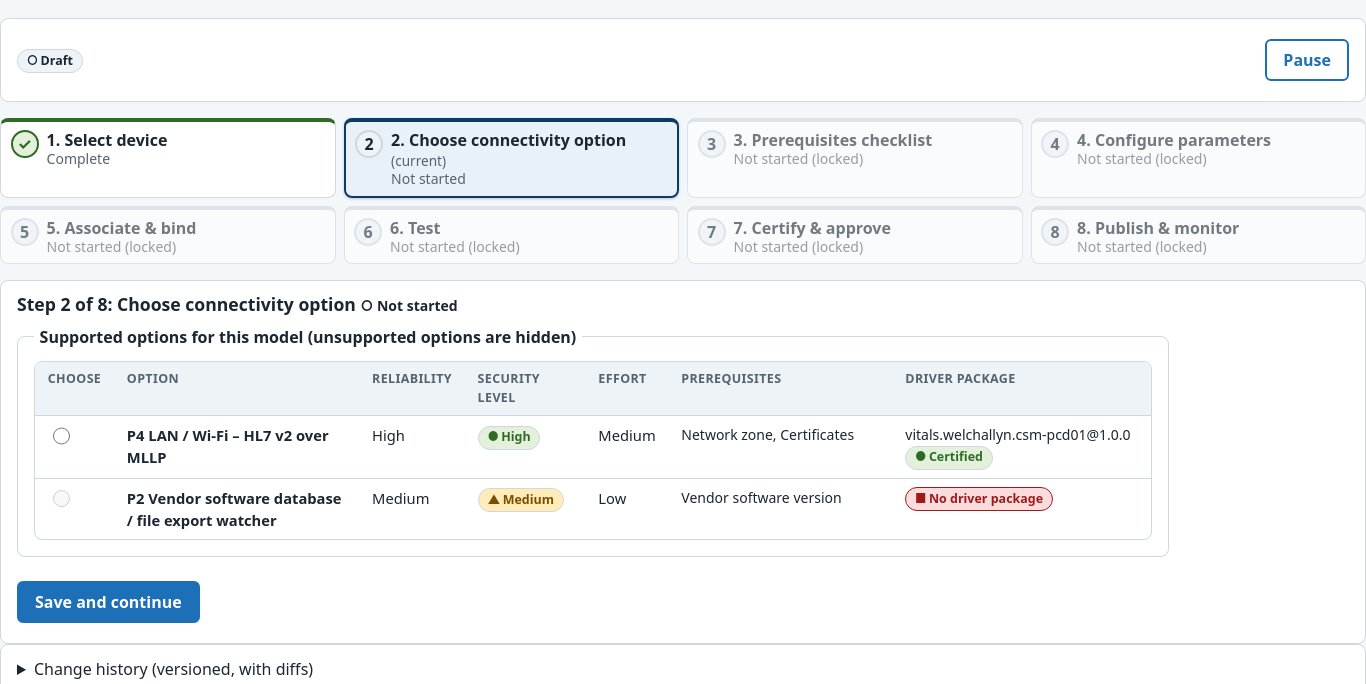
it: provisioning wizard › step 2 compares the supported options only, needs a choice and a driver
The image size is (1366, 684).
Check: the number of radio buttons is 2, box [53,427,70,445]; [53,490,70,507]
Check: the radio button named "P2" is disabled, box [53,490,70,507]
Click the button "Save and continue" at {"x": 108, "y": 602}, box [17,581,200,623]
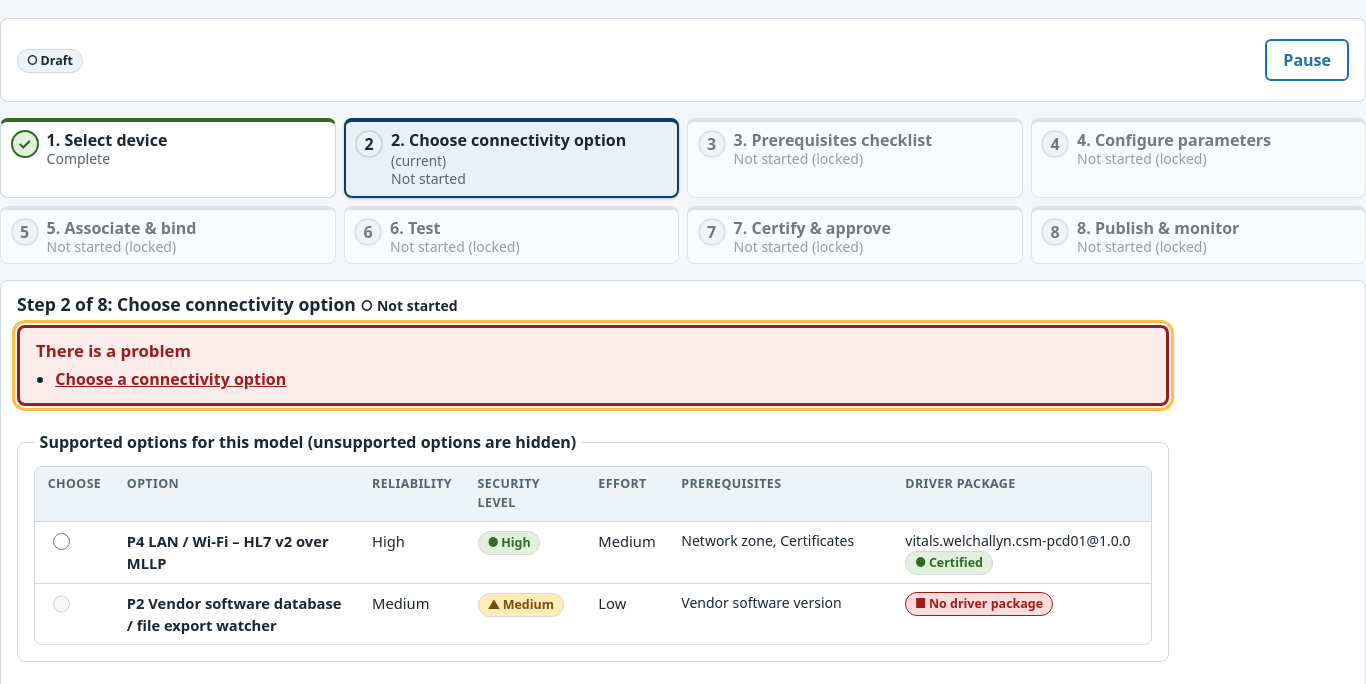
Check: the link "Choose a connectivity option" is shown, box [55,368,286,390]
Click the radio button named "P4" at {"x": 62, "y": 542}, box [53,533,70,550]
(page scrolled)
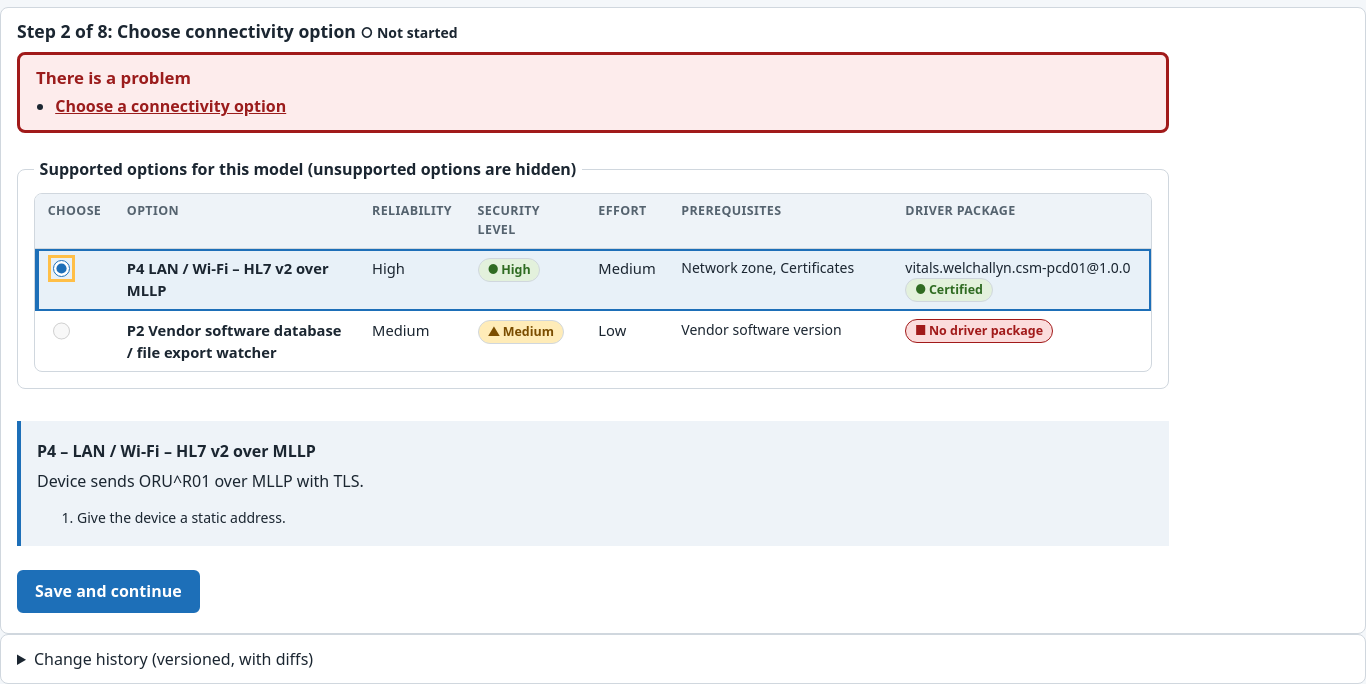
Check: the text "Device sends ORU^R01 over MLLP with TLS." is shown, box [37,470,364,492]
Click the button "Save and continue" at {"x": 108, "y": 591}, box [17,570,200,613]
(page scrolled)
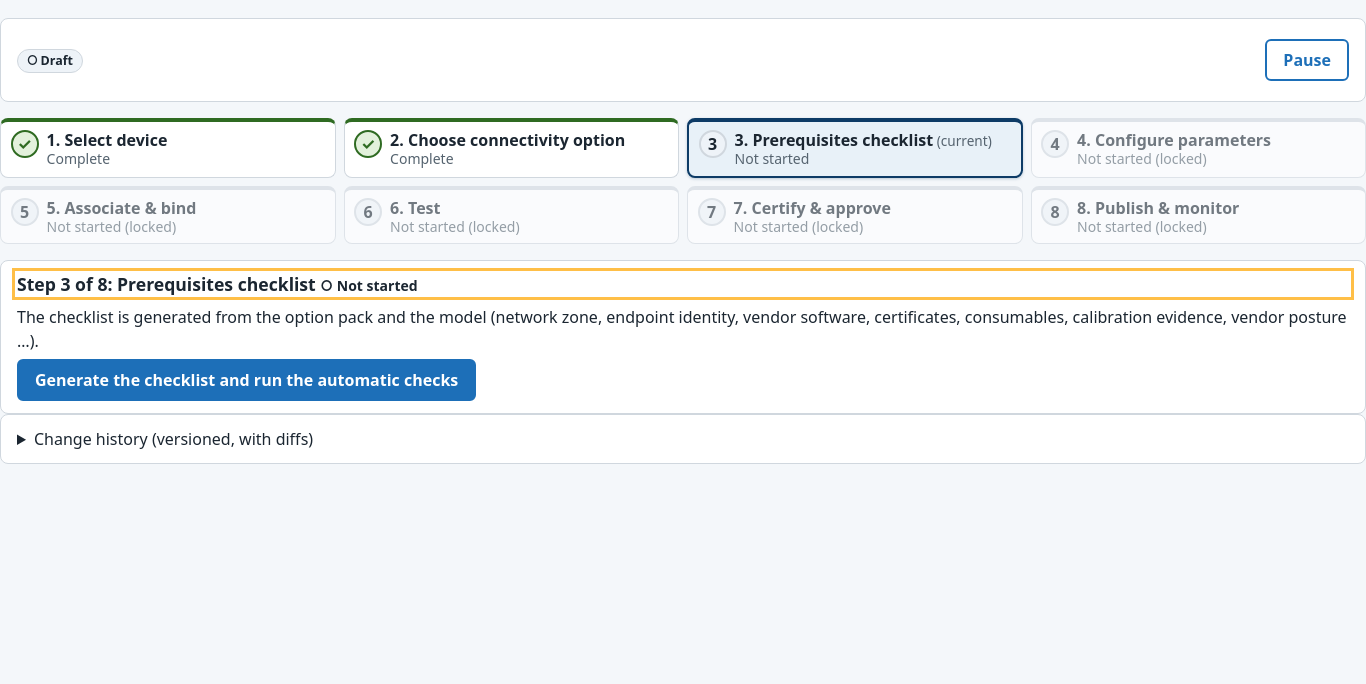
Check: the heading "Step 3 of 8: Prerequisites checklist ○ Not started" is shown, box [17,272,418,296]
